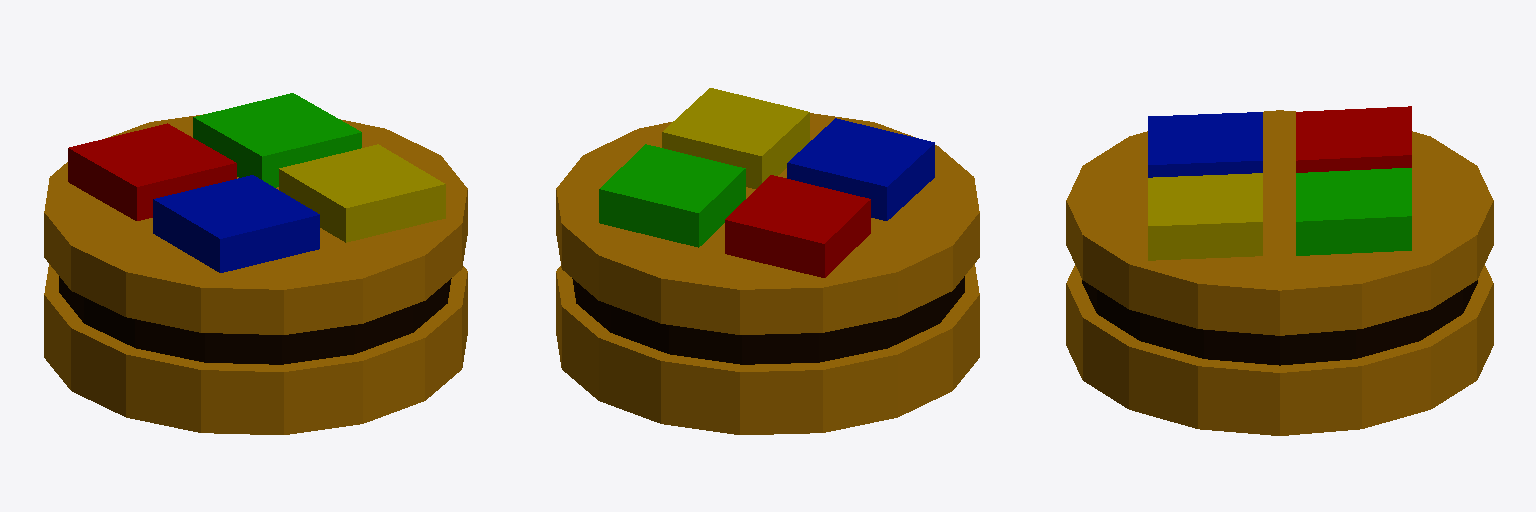
File: burger3.obj
3 renders of one model, left to right at view 1: azimuth 30°, elevation 25°; view 2: azimuth 150°, elevation 25°; view 3: azimuth 270°, elevation 25°, orthographic.
Parts seen in each view (by area): view 1: Cylinder.001; view 2: Cylinder.001; view 3: Cylinder.001.
Part boxes in pixels (bbox=[...]): Cylinder.001: bbox=[44, 93, 467, 434]; Cylinder.001: bbox=[556, 88, 979, 434]; Cylinder.001: bbox=[1066, 106, 1493, 435].
Size of the model in its own units: 2 by 0.9294 by 2.